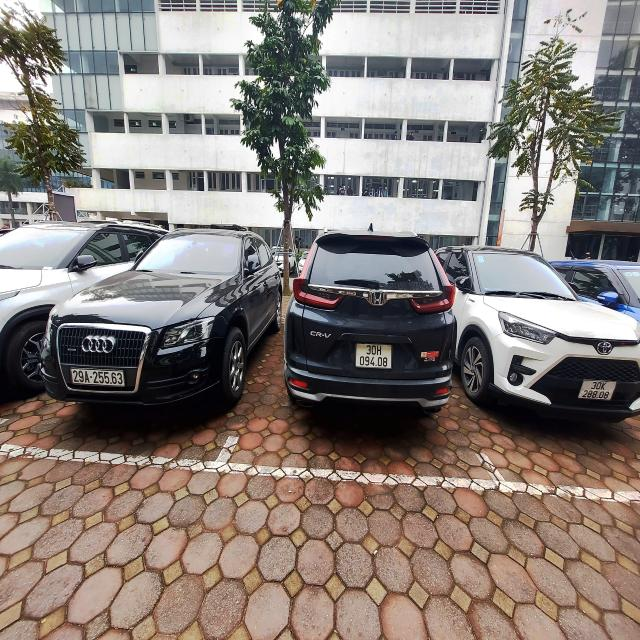license_plate: (71, 369, 126, 387), (357, 345, 393, 369), (580, 381, 619, 401)
